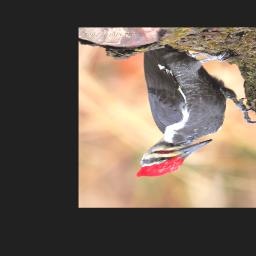Woodpecker: (136, 45, 256, 178)
